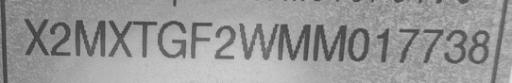letter: (237, 20, 279, 61), (72, 17, 108, 58), (277, 21, 311, 64), (313, 21, 347, 64), (156, 19, 188, 60), (18, 16, 50, 55), (106, 17, 134, 58), (468, 23, 492, 66), (395, 24, 419, 65), (419, 24, 443, 65), (444, 24, 468, 65), (132, 18, 156, 57), (347, 24, 371, 63), (189, 21, 211, 60), (214, 22, 236, 61), (50, 20, 72, 57), (372, 25, 392, 62)
